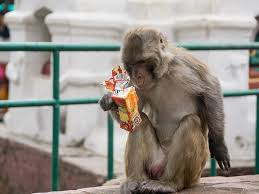monkey: (47, 16, 234, 188)
